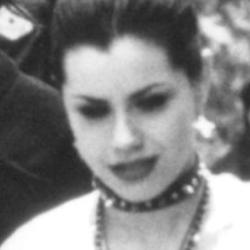face: (27, 1, 223, 210)
